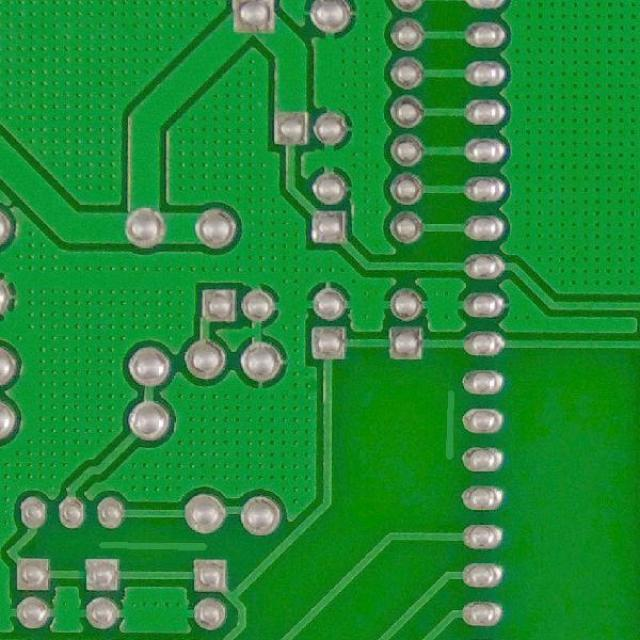Spurious_Cooper: (94, 534, 218, 556), (440, 384, 460, 465)
